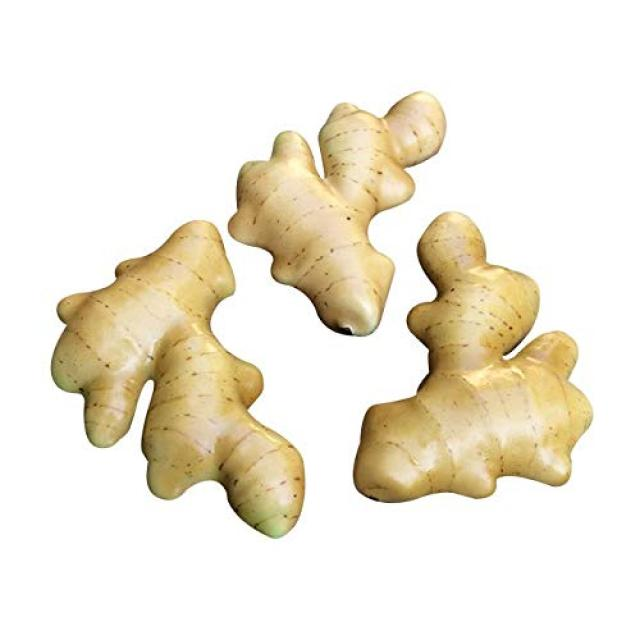ginger-root: (22, 210, 340, 598), (338, 194, 611, 530), (176, 80, 475, 377)
